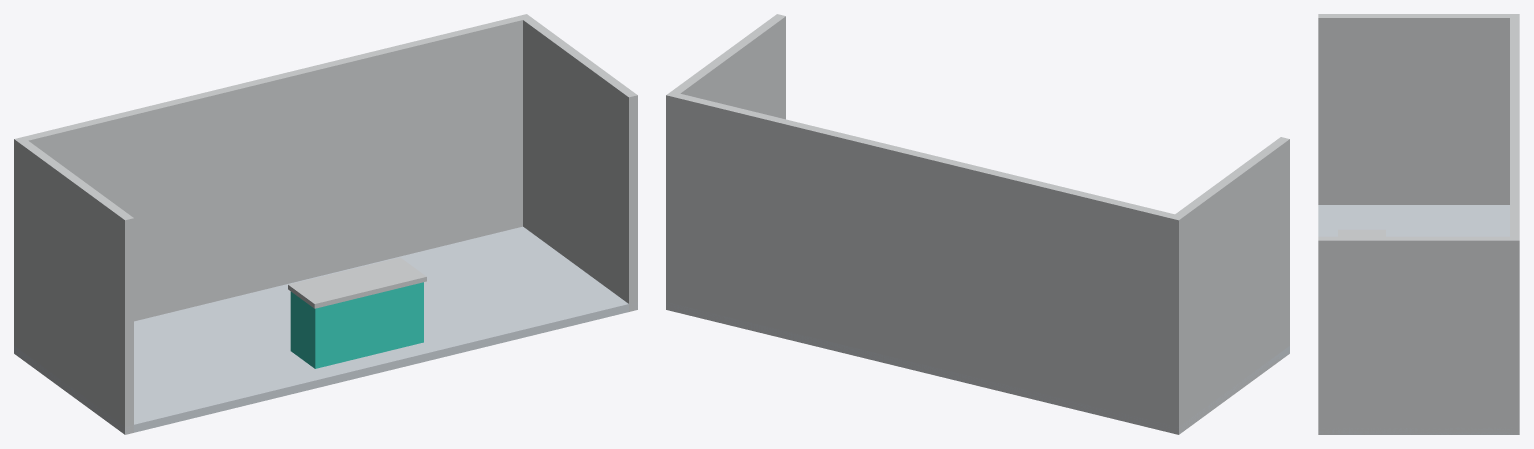
The picture shows the model from 3 angles, left to right: view 1: azimuth 30°, elevation 25°; view 2: azimuth 150°, elevation 25°; view 3: azimuth 270°, elevation 25°; orthographic projection. The views are drawn at different scales.
Parts seen in each view (by area): view 1: Exhibition Booth Concept; view 2: Exhibition Booth Concept; view 3: Exhibition Booth Concept.
Boxes of the visible parts, x1,y1,x2,y2 form: Exhibition Booth Concept: [14, 14, 637, 434]; Exhibition Booth Concept: [666, 14, 1289, 434]; Exhibition Booth Concept: [1318, 14, 1519, 434].
Size of the model in its own units: 8 by 3.2 by 3.
